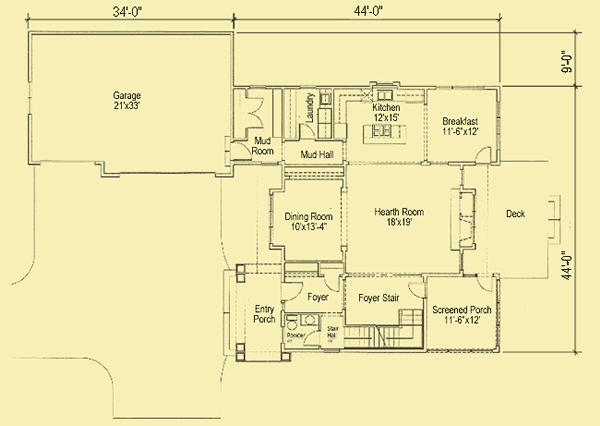door: (243, 95, 266, 132), (279, 280, 304, 304), (472, 145, 495, 170), (406, 279, 428, 303), (475, 273, 497, 296), (322, 273, 343, 293), (302, 327, 321, 348)
kitchen_bar: (359, 123, 408, 146)
stairs: (343, 304, 423, 350)
twin_sink: (377, 89, 393, 102)
